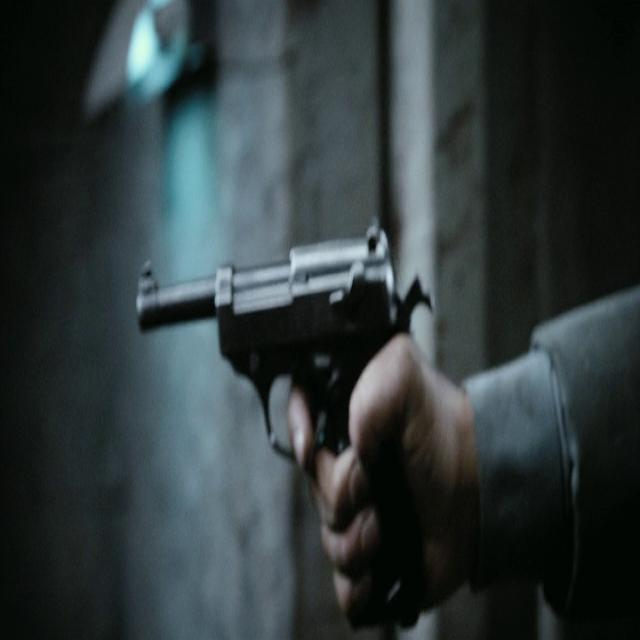gun-knife-thesis - v11 Yolov5 augmented: (135, 202, 431, 639)
